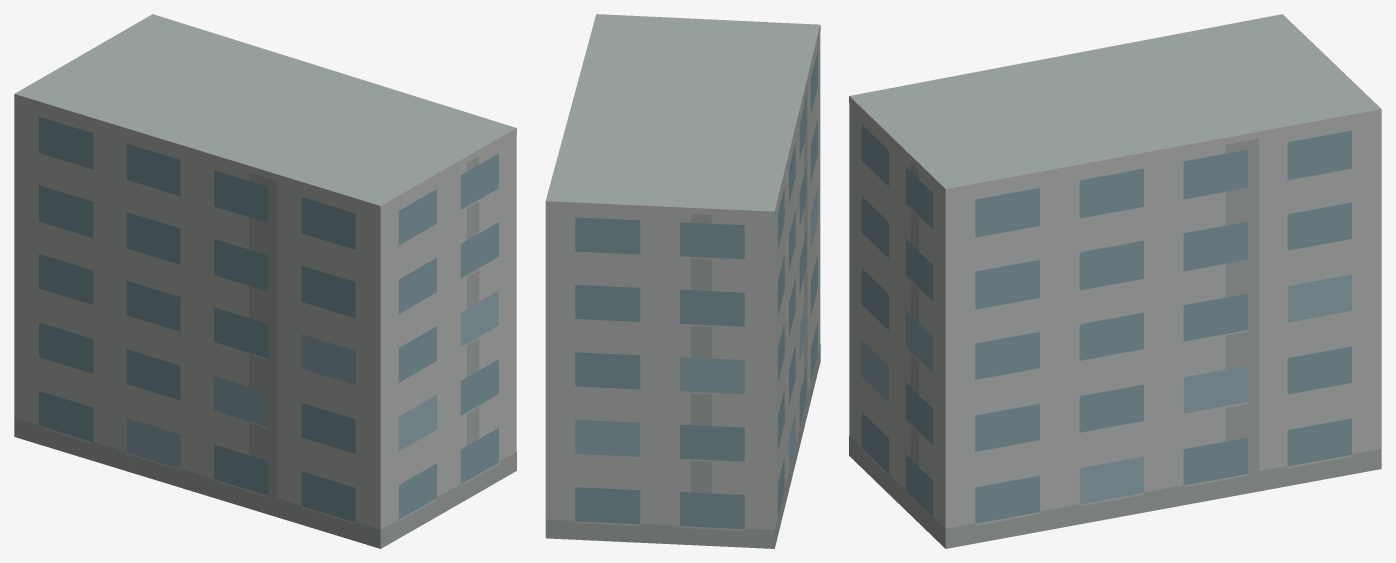
The model's file is survey-upis-32528440.glb.
The picture shows the model from 3 angles, left to right: view 1: azimuth 30°, elevation 25°; view 2: azimuth 150°, elevation 25°; view 3: azimuth 270°, elevation 25°; orthographic projection. The views are drawn at different scales.
Visible parts, largest first — view 1: survey-upis-32528440.tmp; view 2: survey-upis-32528440.tmp; view 3: survey-upis-32528440.tmp.
Boxes of the visible parts, left/top/right/bottom form: survey-upis-32528440.tmp: left=14, top=14, right=516, bottom=548; survey-upis-32528440.tmp: left=545, top=14, right=820, bottom=548; survey-upis-32528440.tmp: left=849, top=14, right=1381, bottom=548.
Size of the model in its own units: 13.47 by 12.9 by 17.31.
